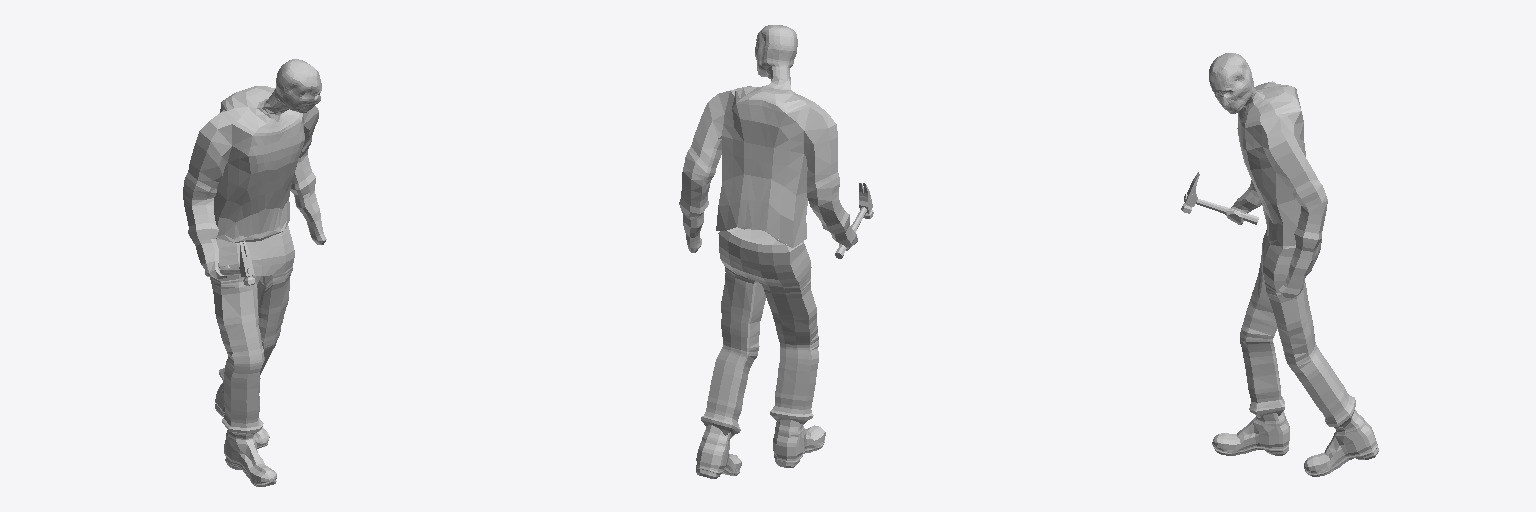
The model's file is Murderer_Idle84.obj.
The picture shows the model from 3 angles: view 1: azimuth 30°, elevation 25°; view 2: azimuth 150°, elevation 25°; view 3: azimuth 270°, elevation 25°; orthographic projection.
Visible parts, largest first — view 1: Körper, Beine, Stiefel, Hammer; view 2: Körper, Beine, Stiefel, Hammer; view 3: Körper, Beine, Stiefel, Hammer.
Boxes of the visible parts, x1,y1,x2,y2 form: Körper: [183, 59, 326, 280]; Beine: [210, 225, 294, 434]; Stiefel: [215, 381, 276, 486]; Hammer: [205, 241, 254, 285]; Körper: [679, 25, 857, 252]; Beine: [701, 227, 818, 437]; Stiefel: [696, 420, 825, 478]; Hammer: [835, 183, 873, 258]; Körper: [1209, 53, 1327, 298]; Beine: [1240, 230, 1355, 427]; Stiefel: [1212, 410, 1378, 476]; Hammer: [1181, 172, 1258, 224].
Bounding box in the file's own units: 0.3453 × 0.9574 × 0.4125.